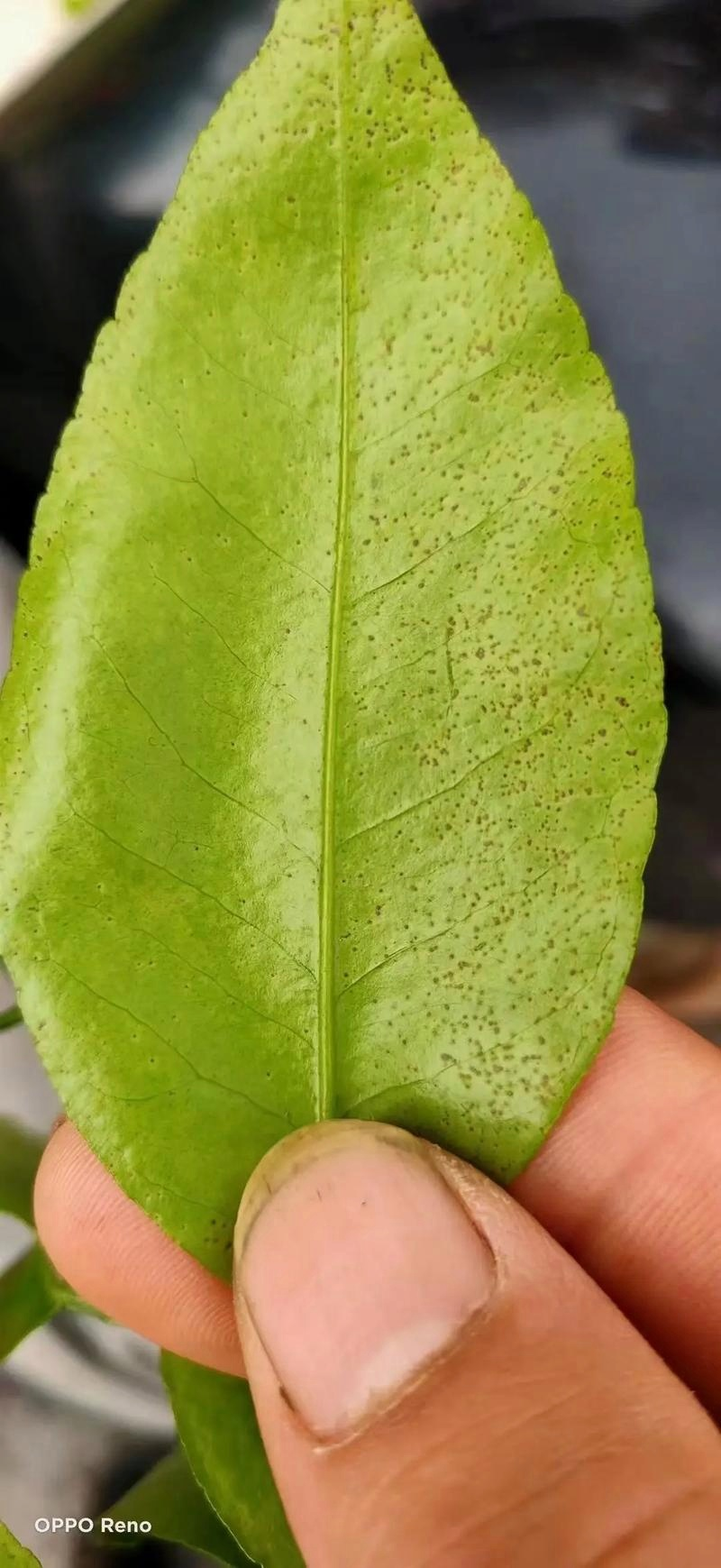Anthracnose: (291, 24, 651, 1210)
